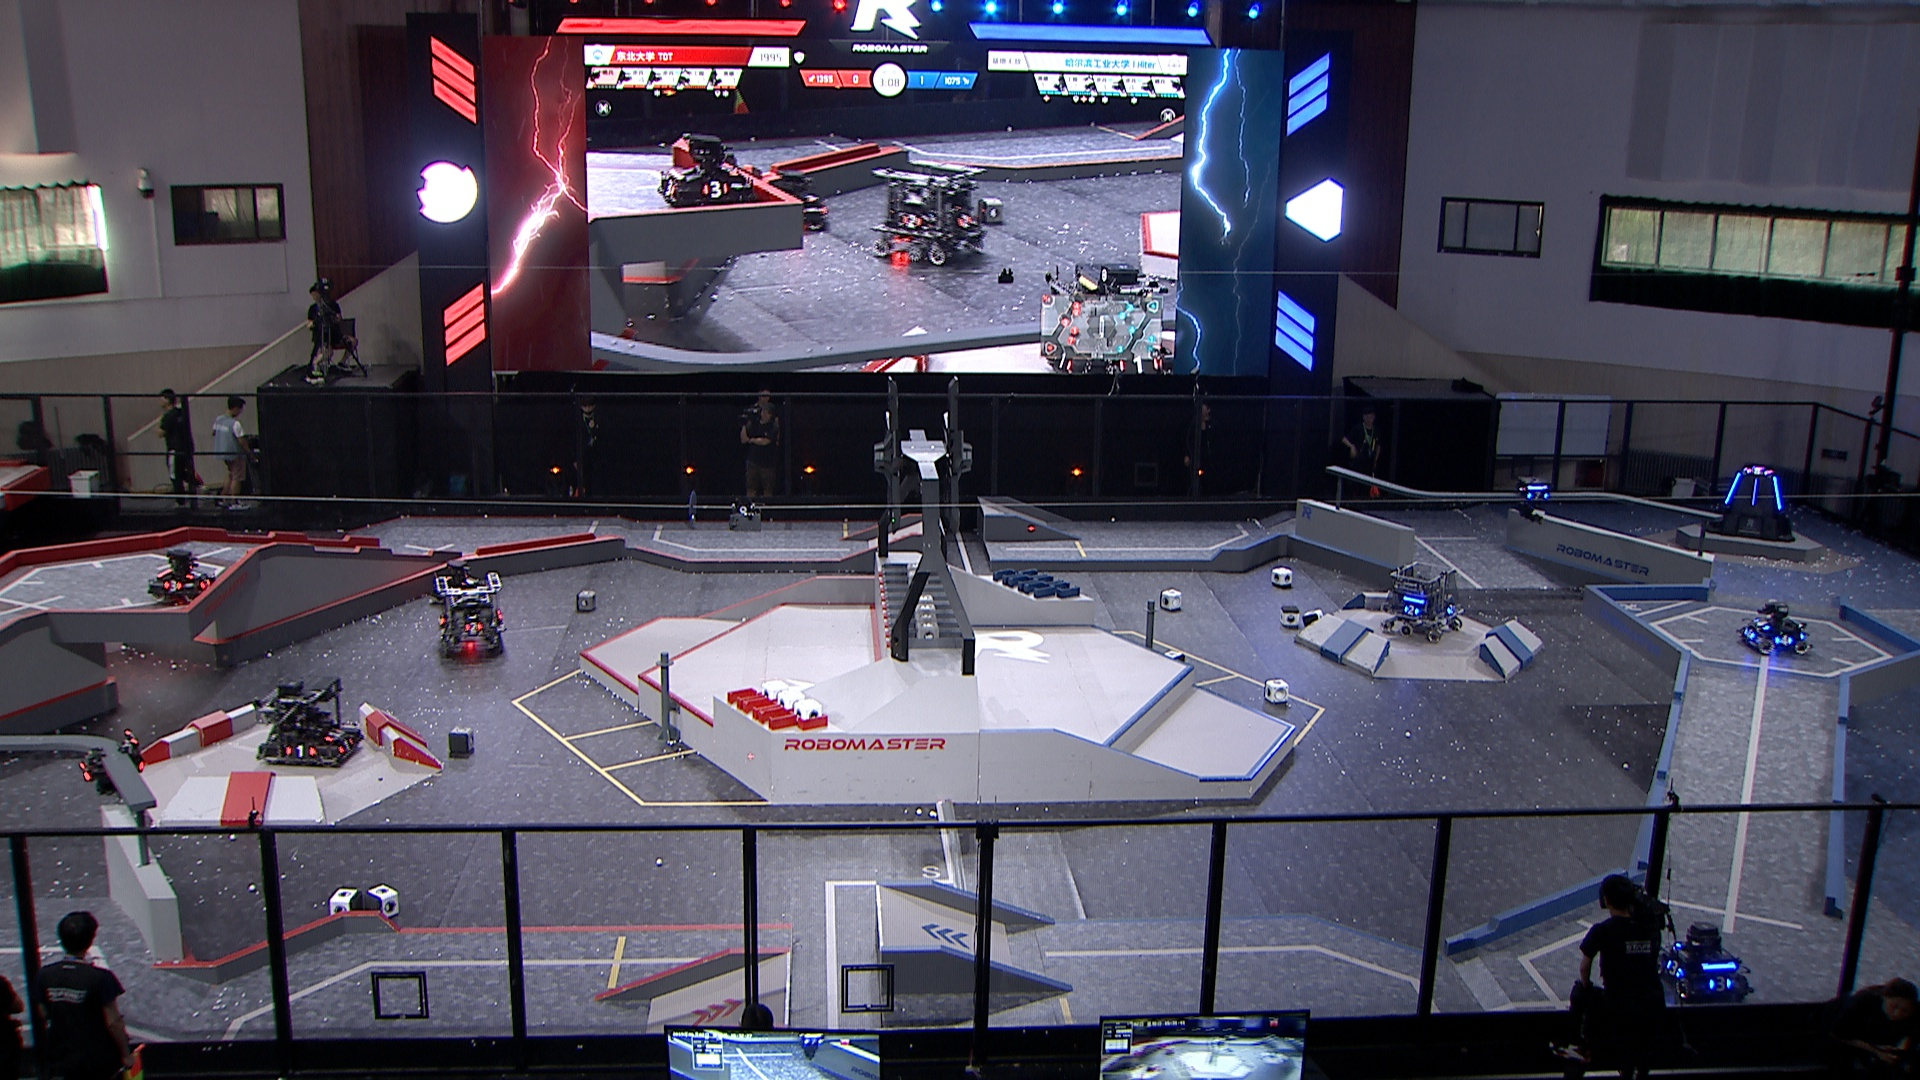armor: (281, 738, 320, 760), (1660, 956, 1687, 982), (1706, 975, 1735, 998), (76, 760, 100, 785), (1771, 475, 1784, 512), (1724, 472, 1738, 505), (335, 735, 357, 756), (1400, 600, 1424, 618), (160, 578, 183, 595), (1770, 632, 1795, 647), (1749, 476, 1760, 509), (320, 725, 342, 744), (1524, 488, 1549, 502), (462, 621, 487, 636), (1751, 616, 1771, 632), (183, 566, 202, 582), (1741, 626, 1756, 645), (196, 575, 214, 589), (1444, 600, 1458, 617)
base: (1708, 462, 1797, 543)
car: (248, 678, 367, 769), (1656, 920, 1755, 1007), (1375, 556, 1466, 640), (429, 568, 506, 659), (1733, 595, 1816, 657), (148, 547, 218, 604)
ignore: (865, 160, 992, 268), (655, 131, 756, 206), (1046, 256, 1172, 305), (773, 167, 831, 232), (1745, 463, 1774, 479)
watcher: (73, 723, 148, 800), (1514, 476, 1552, 524)
